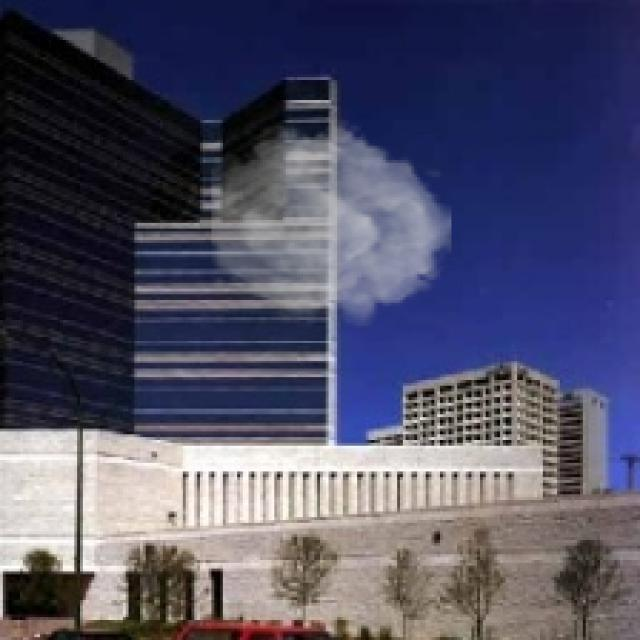Smoke: (212, 117, 452, 329)
